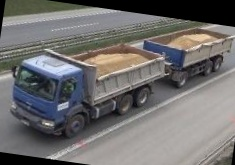truck: (4, 2, 234, 160)
